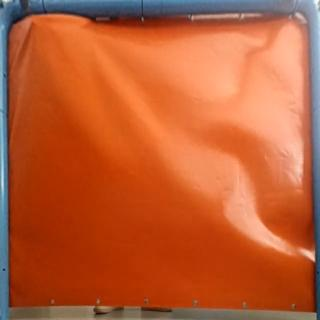Hit-hRxx: (29, 17, 39, 26)
